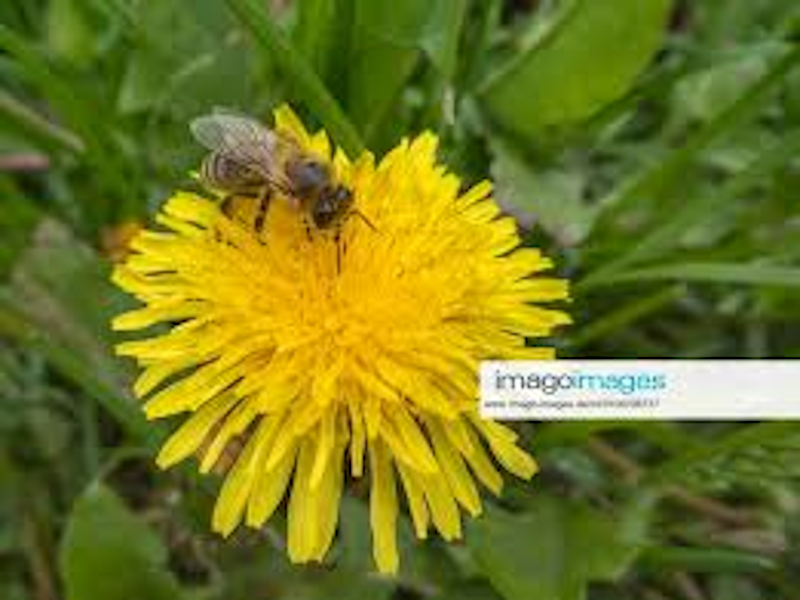abeja: (180, 99, 397, 262)
